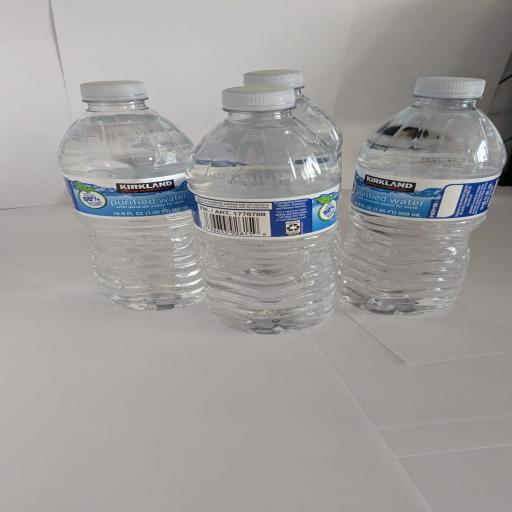waterbottle: (338, 78, 505, 314), (188, 86, 339, 333), (59, 82, 203, 309), (244, 70, 342, 168), (244, 70, 342, 160)
